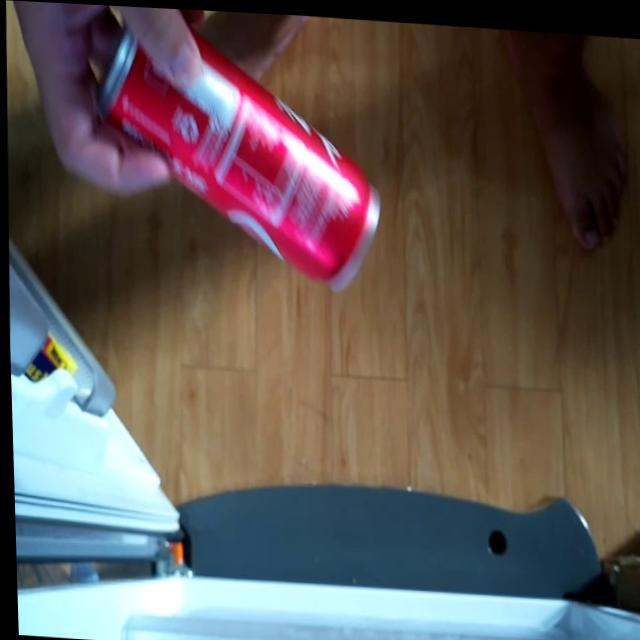coke: (74, 3, 396, 297)
